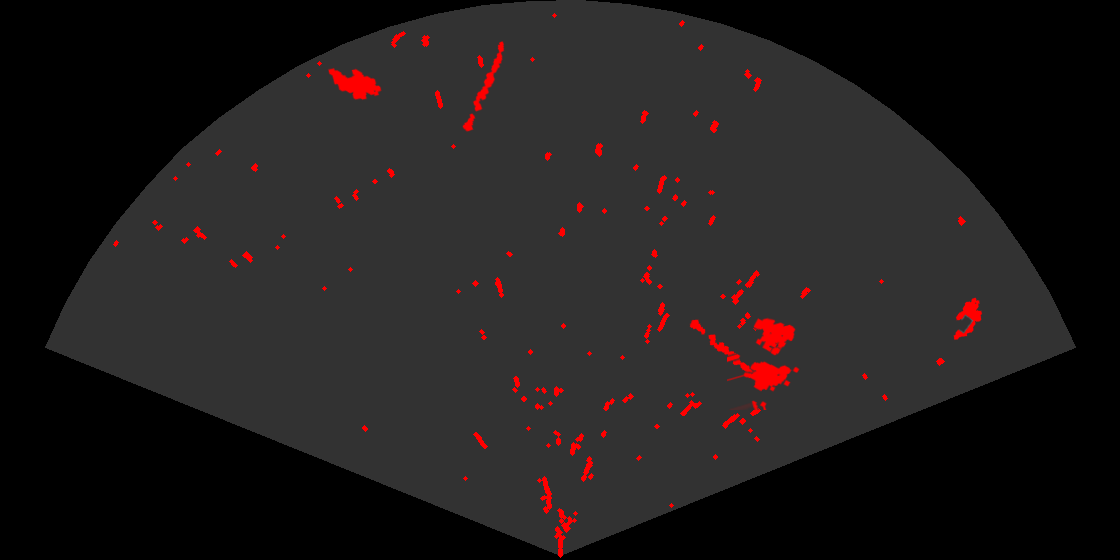AUV: (326, 66, 383, 102), (952, 296, 984, 341)
cage: (727, 316, 801, 410)
chain: (688, 318, 765, 390), (461, 40, 506, 134)
